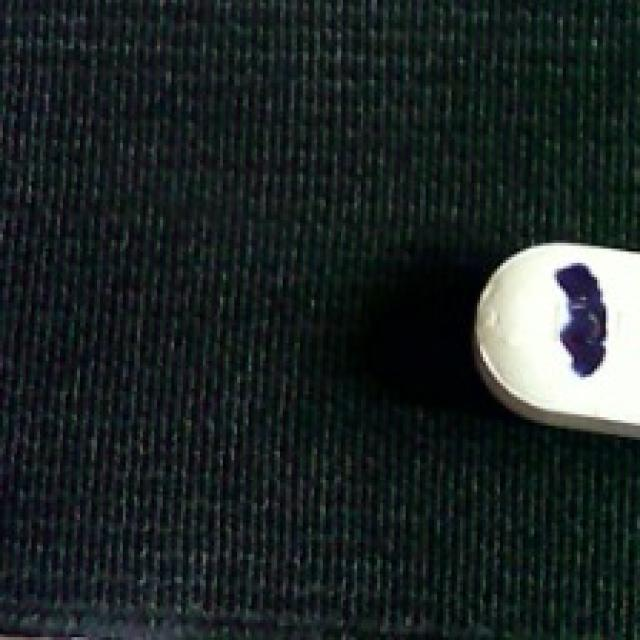defected: (468, 234, 640, 442)
